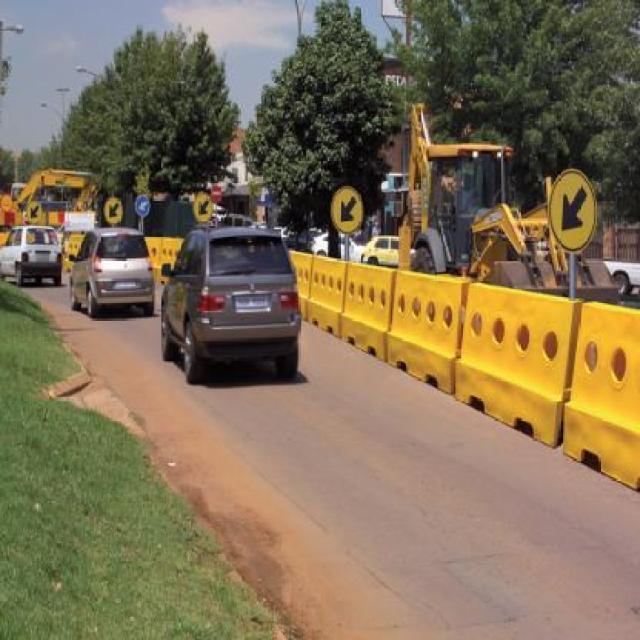fallen_object: (444, 278, 640, 495), (376, 252, 467, 407), (295, 239, 382, 340), (145, 227, 192, 284)
